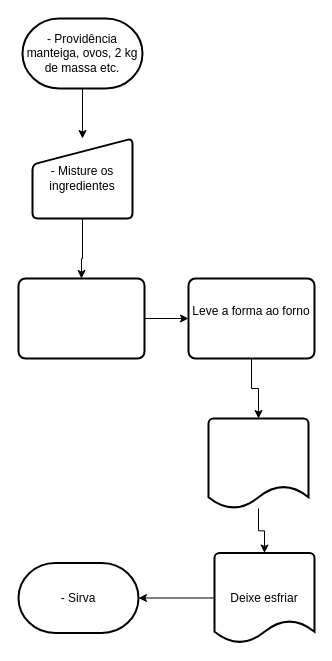
This 332x661 diagram has some shape labels left out. The box of each missing label's shape, as (x1, y1, x2, y2) in pixels:
Despeje a mistura na forma de bolo: (17, 277, 145, 359)
Retire a forma do forno: (207, 417, 309, 509)
